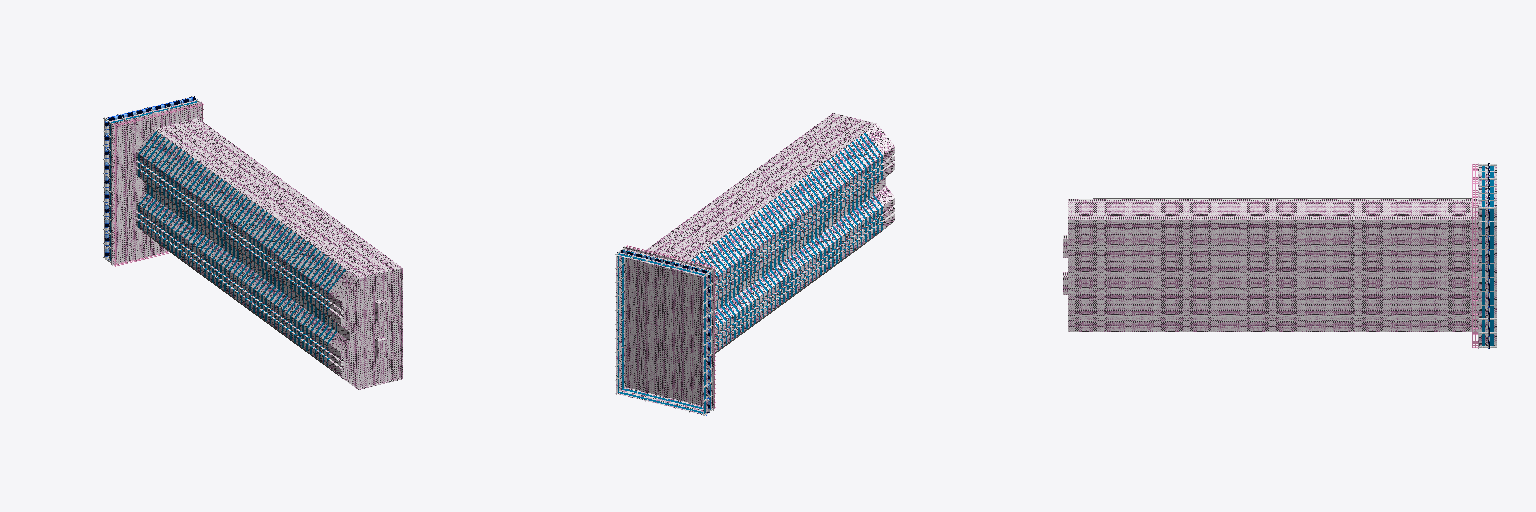
The picture shows the model from 3 angles: view 1: azimuth 30°, elevation 25°; view 2: azimuth 150°, elevation 25°; view 3: azimuth 270°, elevation 25°; orthographic projection.
Parts seen in each view (by area): view 1: Wall_02, Wall_09, Wall_03, Glaz_02, Frame_01, Wall_04; view 2: Wall_09, Wall_02, Wall_03, Glaz_02, Frame_01, wall_1_01, Glaz_01, Wall_04; view 3: Wall_03, Glaz_01, wall_1_01.
Part boxes in pixels (x1,y1,x2,y2): Wall_02: (136, 129, 343, 364); Wall_09: (112, 102, 402, 389); Wall_03: (155, 118, 400, 276); Glaz_02: (138, 131, 345, 365); Frame_01: (138, 131, 345, 378); Wall_04: (328, 270, 356, 385); Wall_09: (623, 247, 713, 410); Wall_02: (689, 134, 880, 350); Wall_03: (645, 114, 874, 260); Glaz_02: (692, 133, 882, 349); Frame_01: (690, 134, 882, 353); wall_1_01: (616, 252, 707, 414); Glaz_01: (618, 250, 710, 413); Wall_04: (865, 125, 893, 241); Wall_03: (1071, 199, 1477, 331); Glaz_01: (1482, 166, 1493, 345); wall_1_01: (1485, 166, 1496, 345).
Size of the model in its own units: 1572 by 2337 by 6345.
Materials: 9 (3 with a texture image).